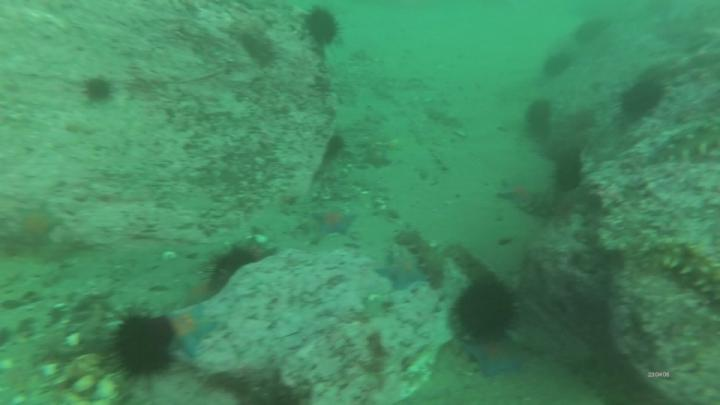echinus: (458, 286, 515, 339), (119, 319, 169, 378), (212, 251, 252, 280), (625, 85, 663, 114), (308, 12, 339, 41), (557, 153, 581, 189), (575, 18, 608, 42), (530, 100, 550, 130), (546, 53, 566, 75), (87, 82, 108, 101)
holothurian: (635, 234, 720, 315), (397, 231, 445, 291), (226, 24, 277, 67), (663, 132, 720, 167), (447, 243, 493, 282)
scallop: (96, 375, 118, 404), (65, 336, 82, 349)
starfish: (168, 309, 214, 357), (378, 248, 425, 291), (471, 342, 532, 374), (16, 208, 61, 250), (310, 208, 357, 236), (501, 179, 535, 205), (184, 283, 216, 305), (364, 147, 392, 171)
